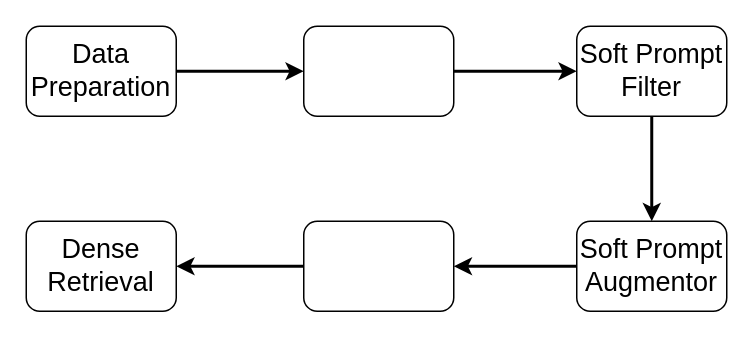
Image size: 753x338. Some labels were removed from this diagram. Each missing label, with the centre of its shape:
"Soft Prompt Tuning" belongs at point 378,70.
"Weak Data Filter" belongs at point 378,265.
